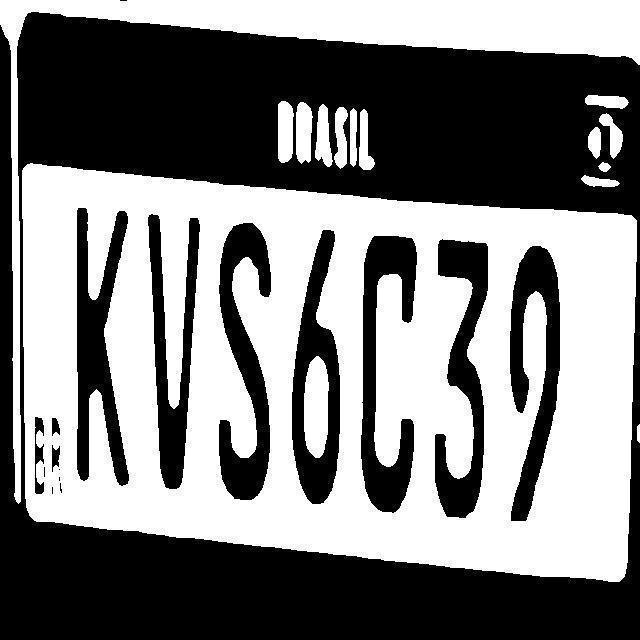3: (427, 220, 494, 536)
6: (283, 217, 353, 523)
9: (495, 236, 566, 548)
c: (360, 212, 424, 523)
k: (60, 196, 137, 504)
s: (208, 210, 280, 512)
v: (143, 202, 203, 516)
